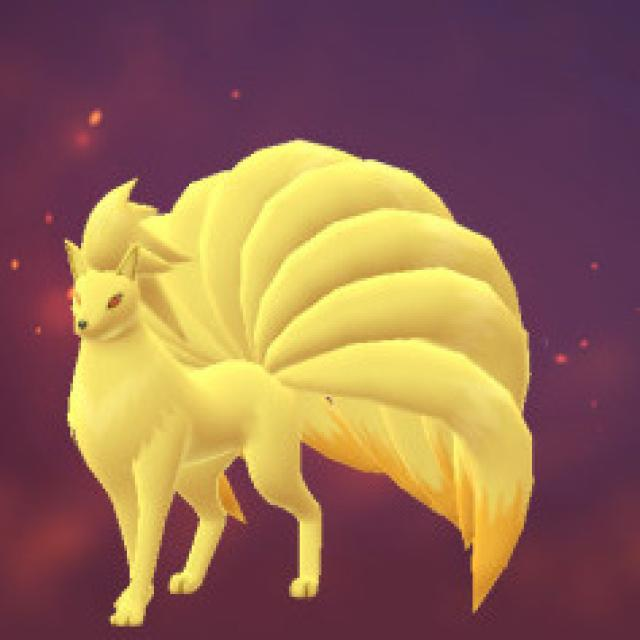Ninetales: (63, 142, 491, 606)
